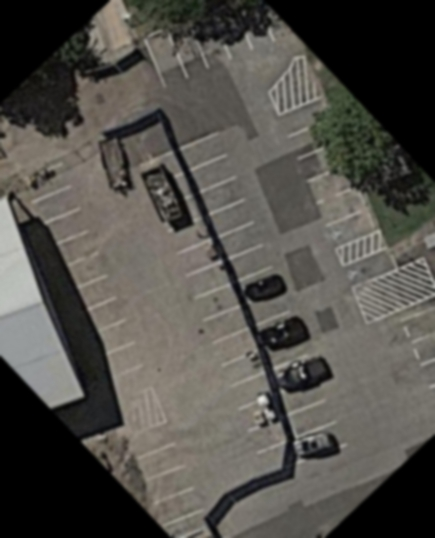parkingspot: (175, 128, 349, 464), (16, 160, 148, 386), (165, 213, 273, 412), (274, 95, 379, 250), (141, 0, 278, 91), (122, 418, 207, 528), (393, 300, 435, 412), (338, 246, 398, 291)
